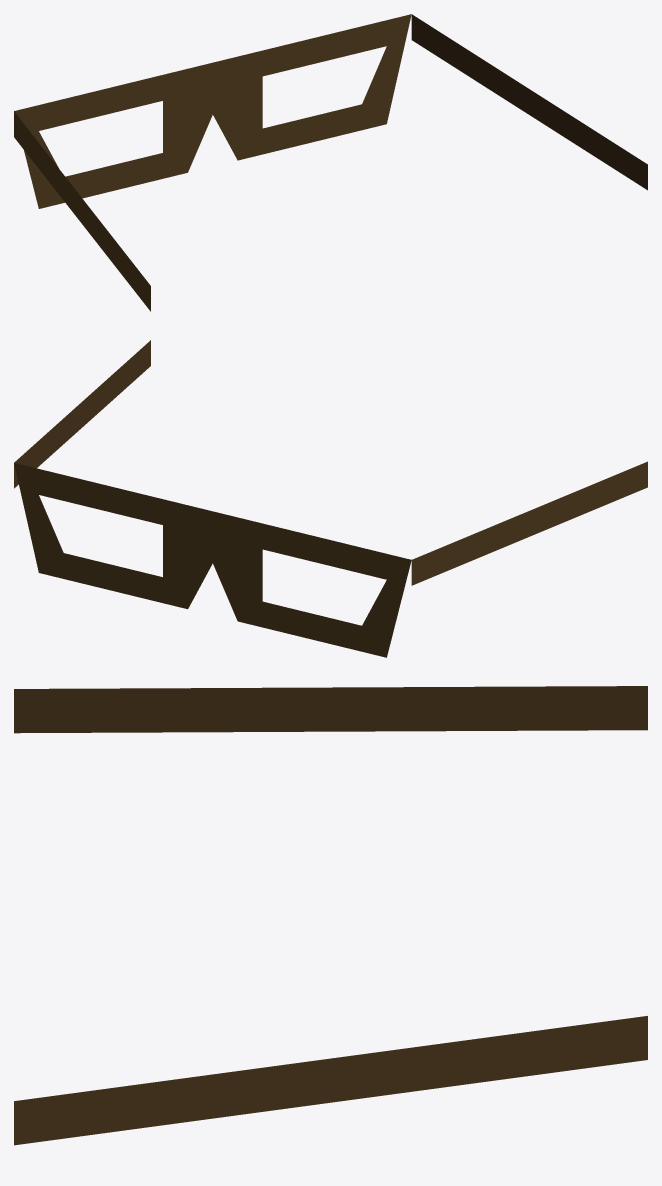
File: npc_chat_frenita_1.obj
3 renders of one model, top to bottom at view 1: azimuth 30°, elevation 25°; view 2: azimuth 150°, elevation 25°; view 3: azimuth 270°, elevation 25°, orthographic. The views are drawn at different scales.
Size of the model in its own units: 0.625 by 0.125 by 0.4062.
